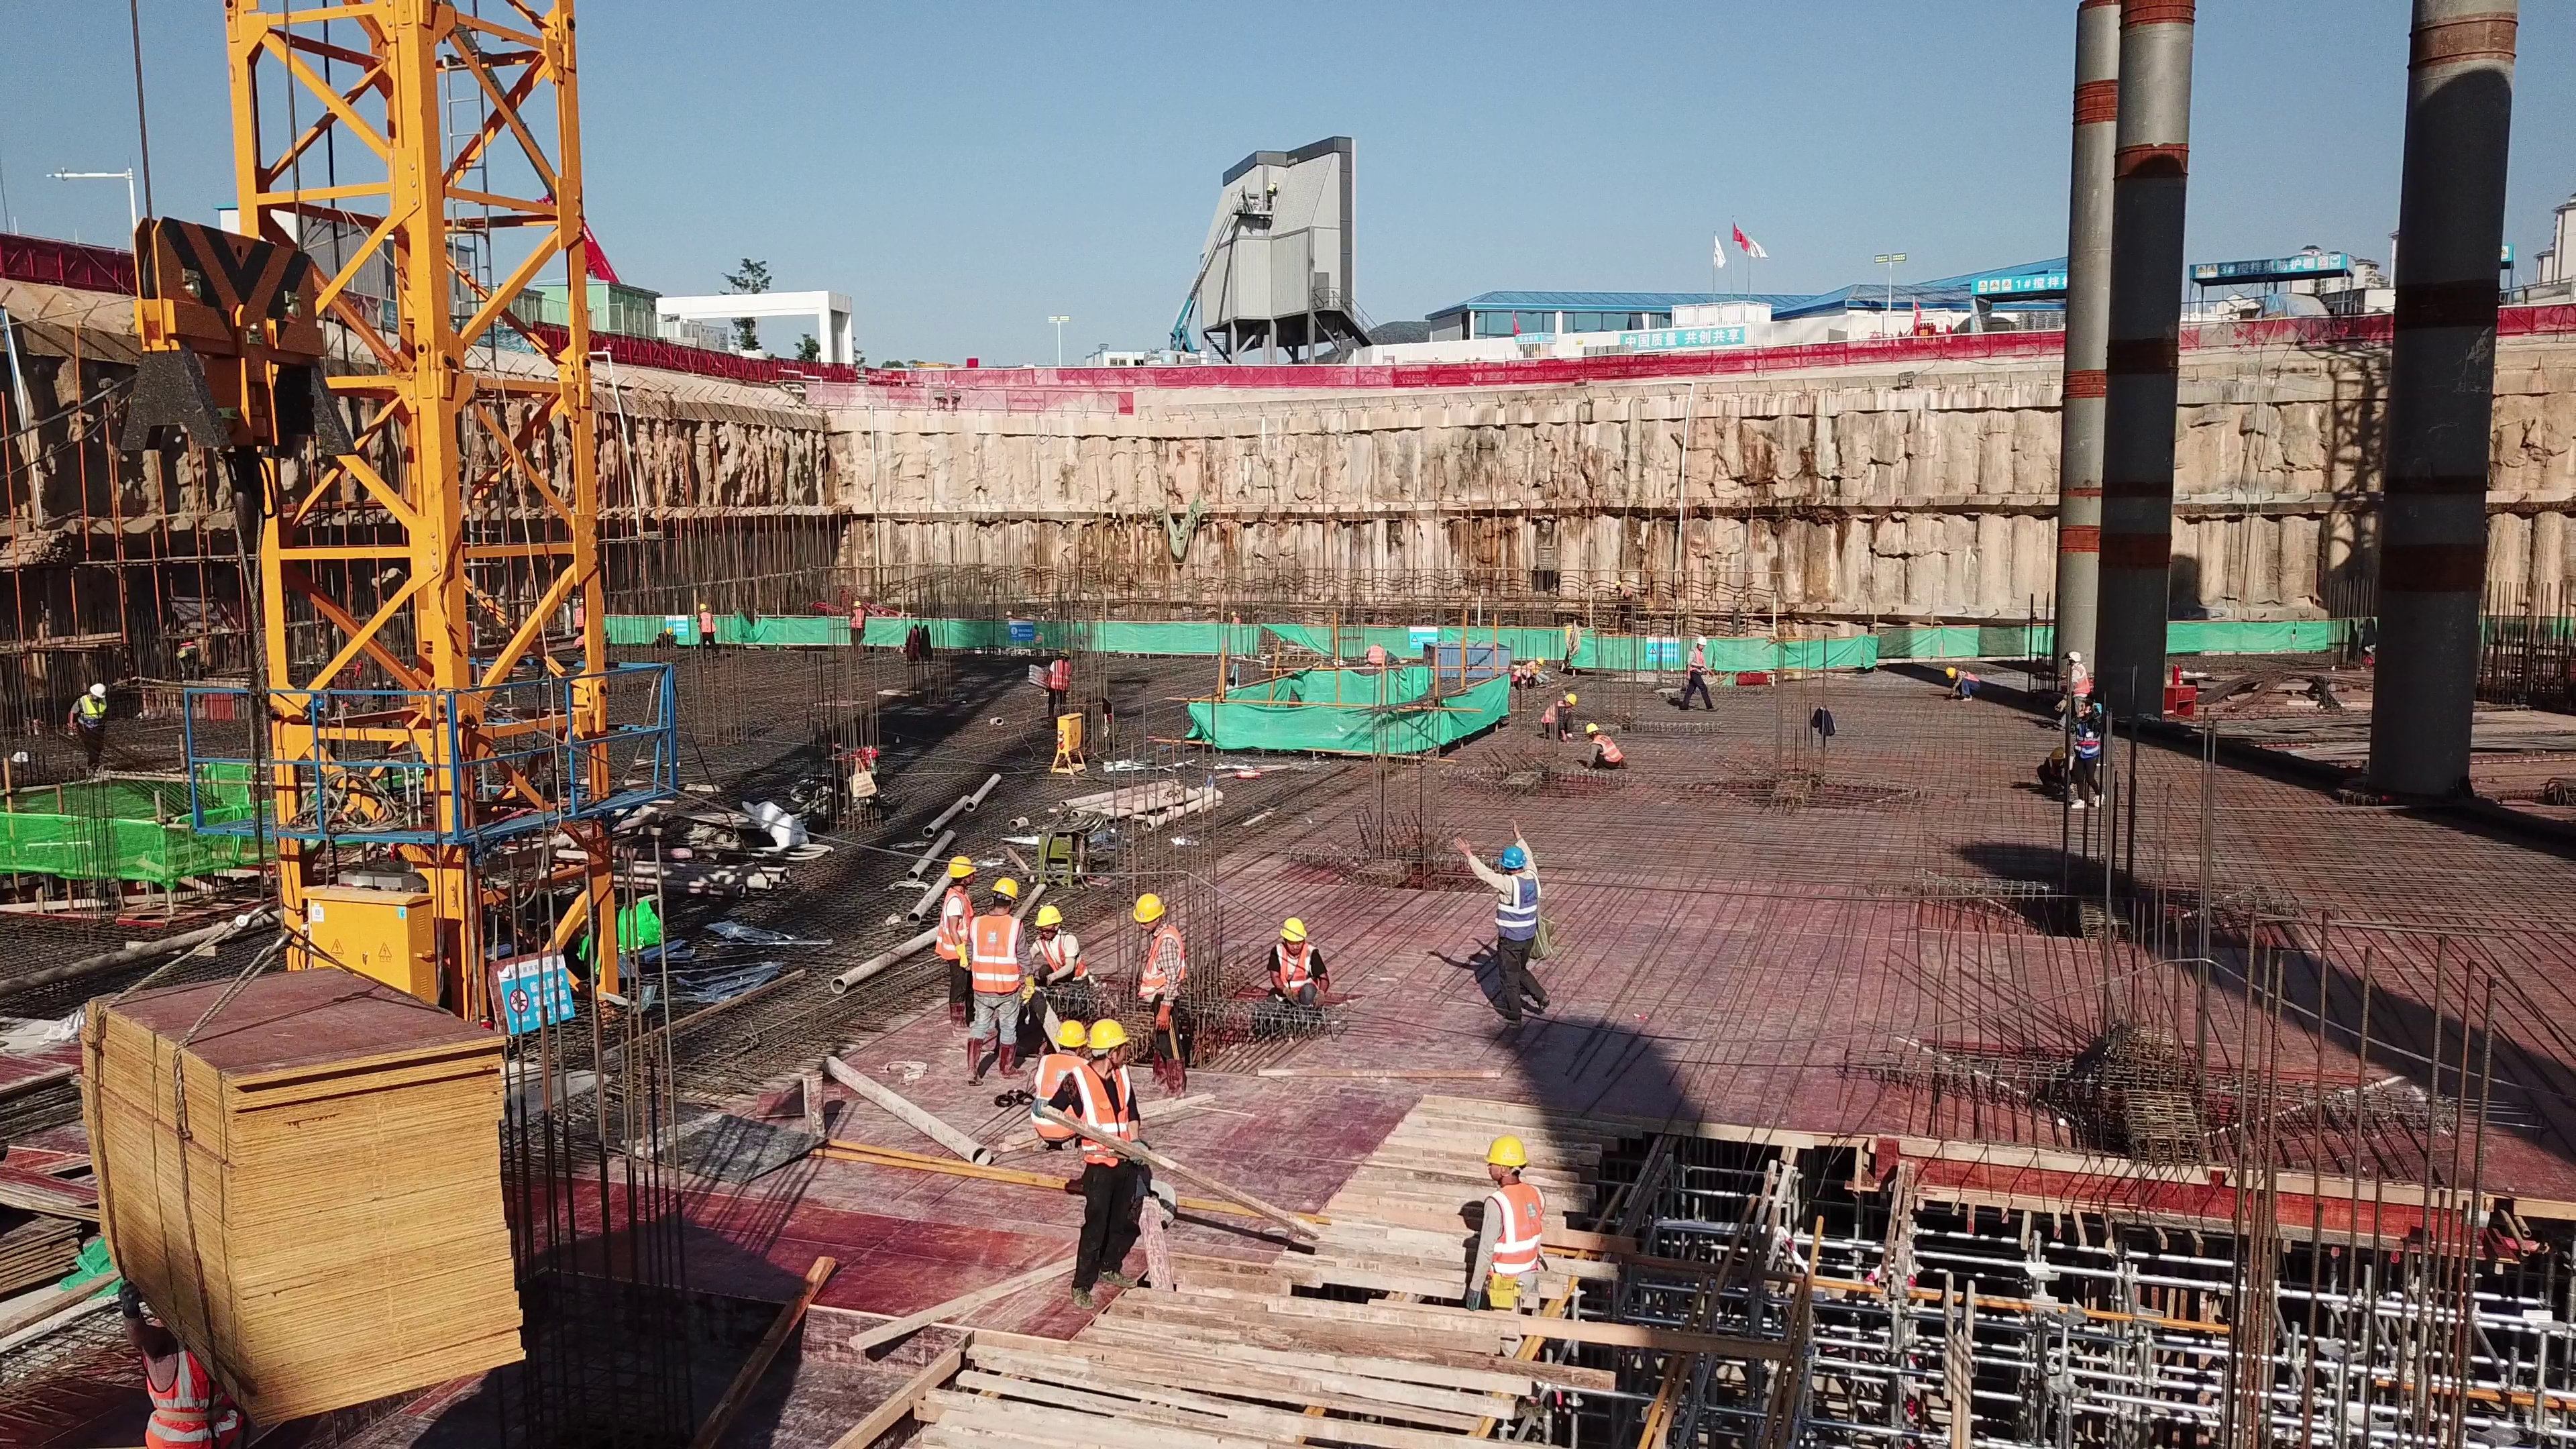helmet: (1089, 1008, 1136, 1057), (1480, 1133, 1527, 1161), (1132, 896, 1171, 927), (1034, 900, 1067, 936), (988, 866, 1022, 903), (946, 849, 977, 888), (1060, 1014, 1085, 1058), (1493, 850, 1533, 875), (1277, 917, 1316, 942), (2051, 741, 2064, 765), (2092, 700, 2106, 714), (88, 683, 105, 696), (695, 602, 710, 614), (1566, 692, 1578, 706), (1056, 648, 1071, 658), (1695, 637, 1707, 649), (1945, 666, 1957, 677), (1537, 654, 1548, 667), (851, 598, 864, 608), (1582, 724, 1597, 735)
person: (1445, 818, 1562, 1027), (99, 1277, 243, 1448), (1079, 1013, 1146, 1305), (1128, 887, 1215, 1100), (1477, 1134, 1557, 1336), (967, 877, 1030, 1098), (1264, 910, 1342, 1020), (934, 851, 977, 1030), (1034, 1012, 1089, 1140), (1030, 906, 1091, 994), (2074, 695, 2115, 815), (1681, 633, 1723, 714), (837, 588, 881, 655), (1578, 723, 1630, 775), (693, 602, 733, 665), (1940, 663, 1991, 711), (2057, 648, 2103, 700), (1496, 650, 1550, 693), (1543, 683, 1577, 744), (1042, 646, 1070, 716), (1613, 577, 1636, 614)
vest: (1080, 1064, 1137, 1169), (137, 1344, 222, 1410), (969, 925, 1034, 998), (1491, 1193, 1540, 1282), (1500, 875, 1546, 956), (1137, 931, 1185, 998), (1044, 1056, 1080, 1139), (1274, 957, 1334, 1003), (941, 889, 970, 979), (2074, 718, 2100, 755), (76, 698, 106, 729), (1592, 735, 1620, 765), (1684, 650, 1709, 678), (1049, 658, 1069, 691), (2068, 664, 2090, 692), (1513, 659, 1535, 682), (695, 614, 717, 639), (1545, 700, 1564, 728), (850, 609, 867, 632), (1960, 669, 1982, 684)
